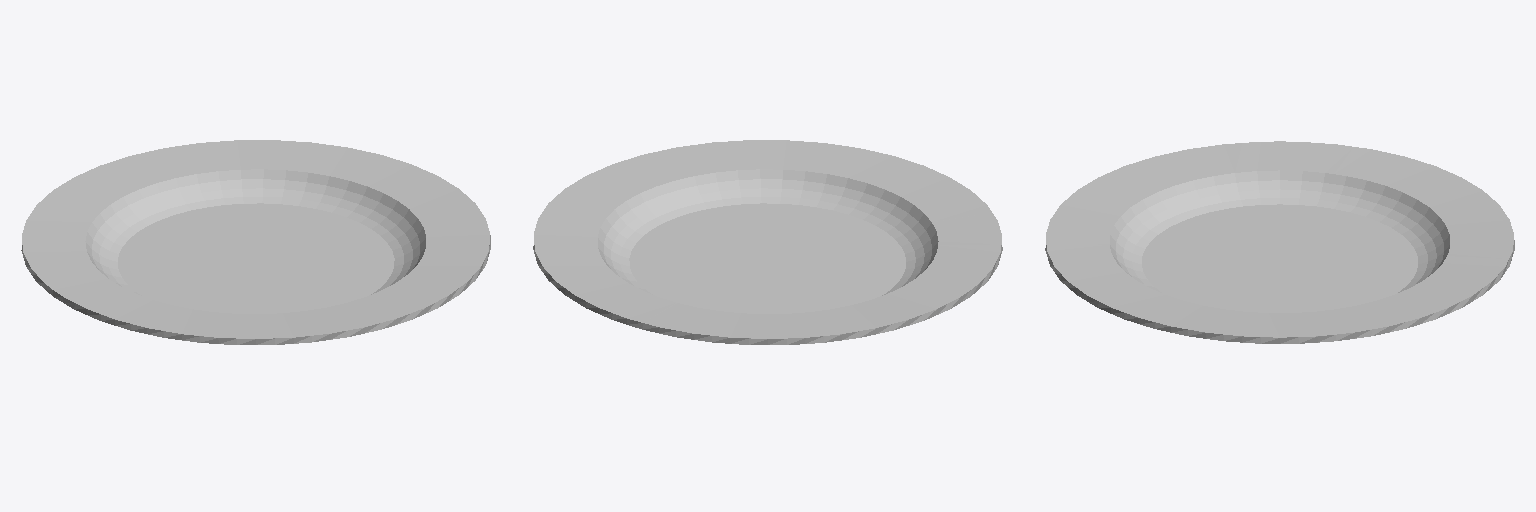
Rendered from plate_11in.obj.
3 renders of one model, left to right at view 1: azimuth 30°, elevation 25°; view 2: azimuth 150°, elevation 25°; view 3: azimuth 270°, elevation 25°, orthographic.
Bounding box in the file's own units: 280 × 22.97 × 280.